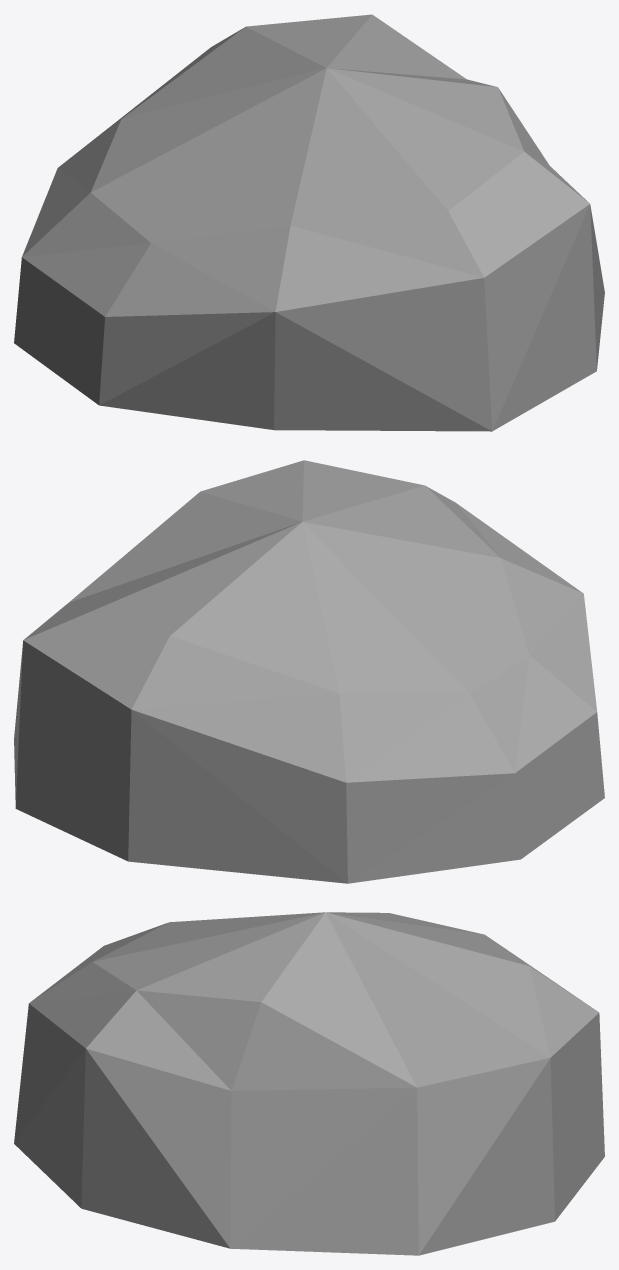
The model's file is Isl_1_Stone_4.fbx.
The picture shows the model from 3 angles, top to bottom: view 1: azimuth 30°, elevation 25°; view 2: azimuth 150°, elevation 25°; view 3: azimuth 270°, elevation 25°; orthographic projection. The views are drawn at different scales.
Parts seen in each view (by area): view 1: Isl_1_Stone_4; view 2: Isl_1_Stone_4; view 3: Isl_1_Stone_4.
Part boxes in pixels (box(x1,y1,x2,y2)): Isl_1_Stone_4: box(14, 14, 604, 431); Isl_1_Stone_4: box(14, 460, 604, 883); Isl_1_Stone_4: box(14, 912, 604, 1255).
Bounding box in the file's own units: 290 × 307 × 132.
Materials: 1 (1 with a texture image).
